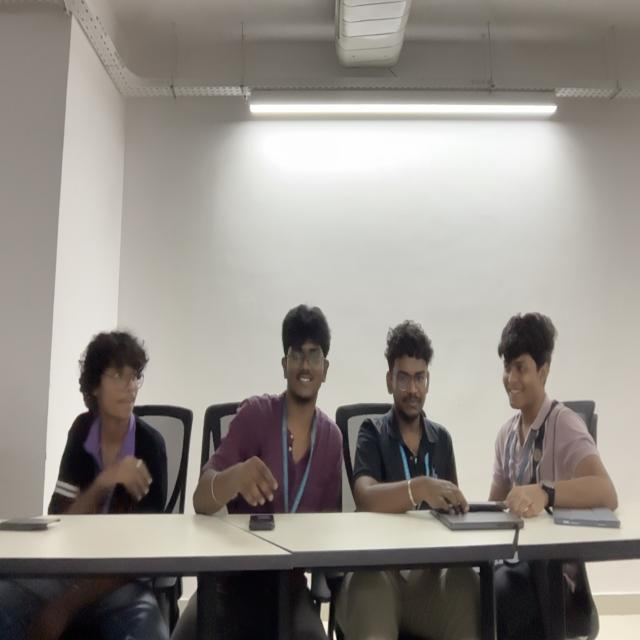Isolated: (48, 334, 180, 516)
socializing: (202, 301, 622, 507)
